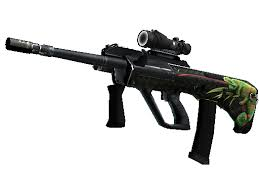gun: (5, 27, 257, 167)
